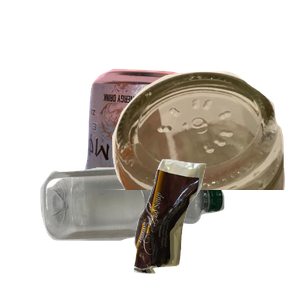glass: (89, 69, 300, 249)
metal: (82, 66, 270, 246)
plastic: (38, 165, 255, 300)
trash: (131, 157, 300, 300)
